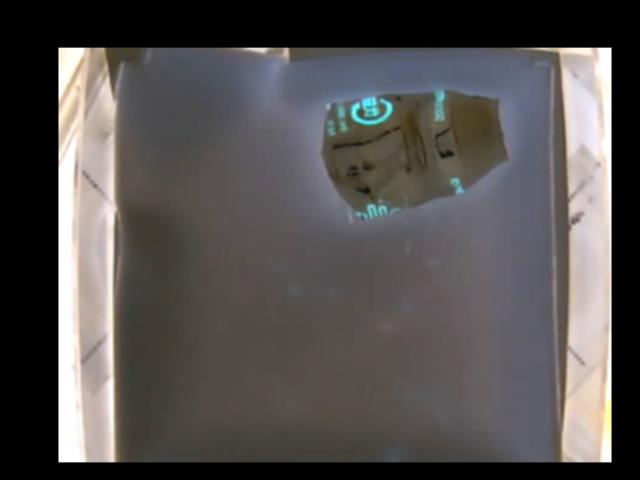Bottle: (321, 88, 506, 221)
